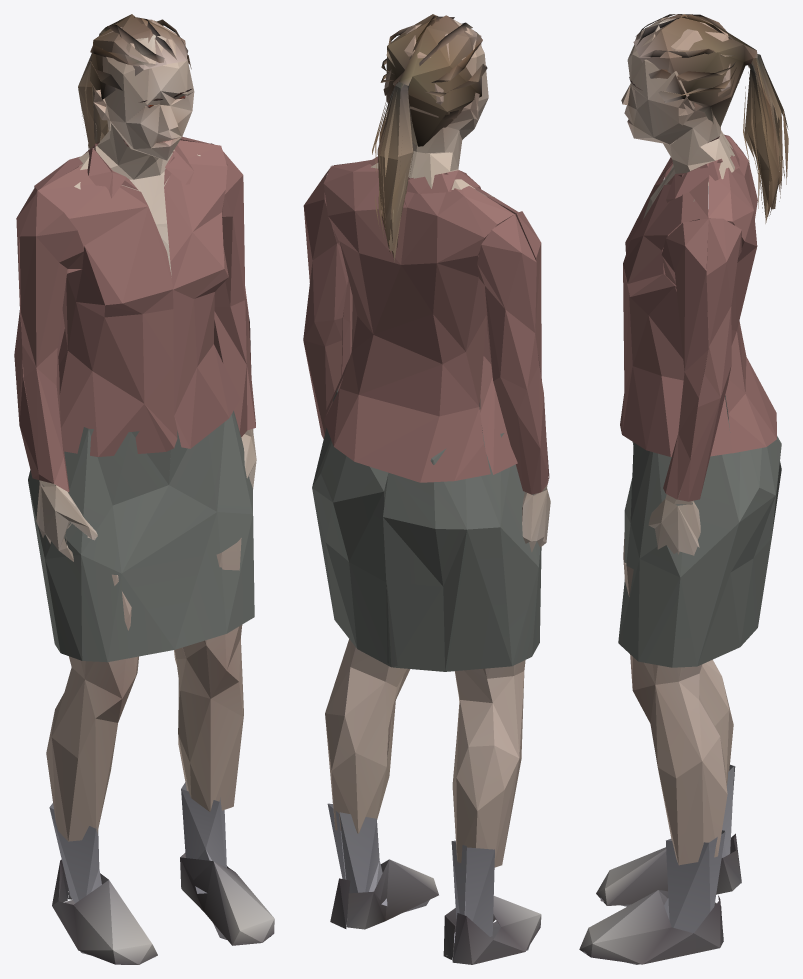
The model's file is person-4-far.glb.
The picture shows the model from 3 angles, left to right: view 1: azimuth 30°, elevation 25°; view 2: azimuth 150°, elevation 25°; view 3: azimuth 270°, elevation 25°; orthographic projection. The views are drawn at different scales.
Parts seen in each view (by area): view 1: person-4 far; view 2: person-4 far; view 3: person-4 far.
Boxes of the visible parts, x1,y1,x2,y2 form: person-4 far: (14,14,274,964); person-4 far: (303,14,550,964); person-4 far: (579,14,788,964).
Size of the model in its own units: 0.4243 by 1.62 by 0.3391.
